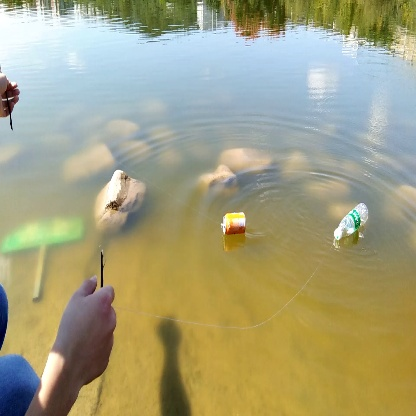bottle: (327, 199, 371, 251), (214, 210, 252, 239)
